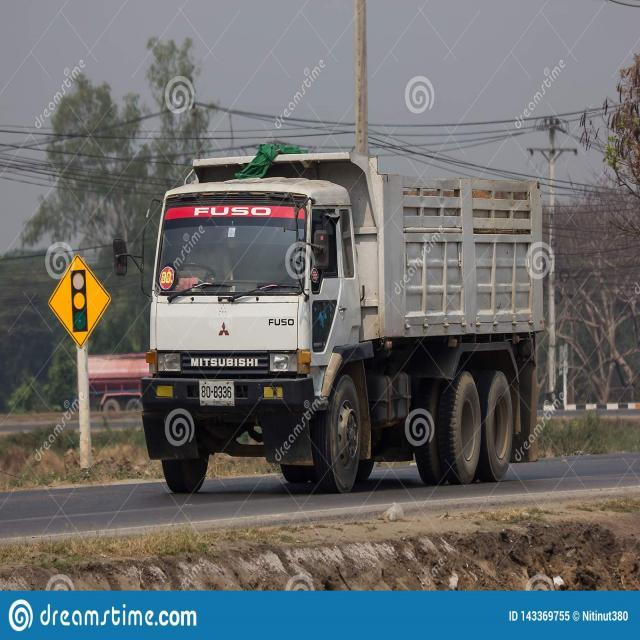bicycle: (112, 138, 546, 490)
